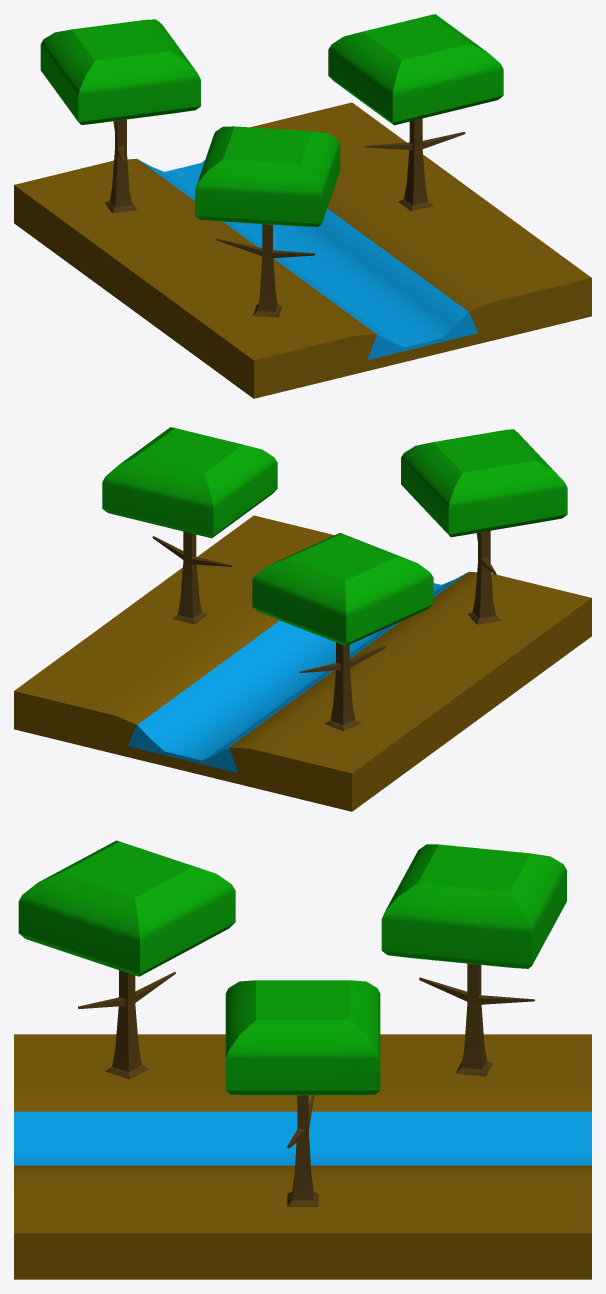
Rendered from riverBank(animated) 1.fbx.
The picture shows the model from 3 angles, top to bottom: view 1: azimuth 30°, elevation 25°; view 2: azimuth 150°, elevation 25°; view 3: azimuth 270°, elevation 25°; orthographic projection. The views are drawn at different scales.
Parts seen in each view (by area): view 1: riverbank, tree, tree1, tree2; view 2: riverbank, tree2, tree, tree1; view 3: riverbank, tree1, tree2, tree.
Part boxes in pixels (left/top/right/bottom): riverbank: left=14, top=102, right=591, bottom=398; tree: left=328, top=14, right=503, bottom=211; tree1: left=195, top=126, right=340, bottom=317; tree2: left=40, top=19, right=200, bottom=213; riverbank: left=14, top=515, right=591, bottom=811; tree2: left=252, top=533, right=433, bottom=731; tree: left=102, top=427, right=277, bottom=624; tree1: left=401, top=429, right=567, bottom=624; riverbank: left=14, top=1034, right=591, bottom=1279; tree1: left=18, top=840, right=235, bottom=1079; tree2: left=381, top=844, right=566, bottom=1076; tree: left=225, top=980, right=380, bottom=1206.
Bounding box in the file's own units: 73.14 × 40.22 × 85.49.
